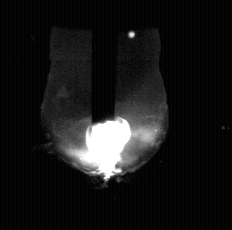arame: (92, 0, 116, 125)
poca: (42, 0, 170, 230)
